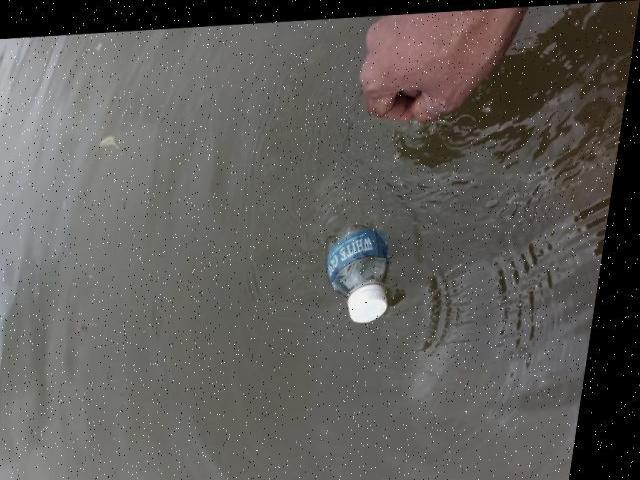Bottle: (318, 217, 396, 333)
